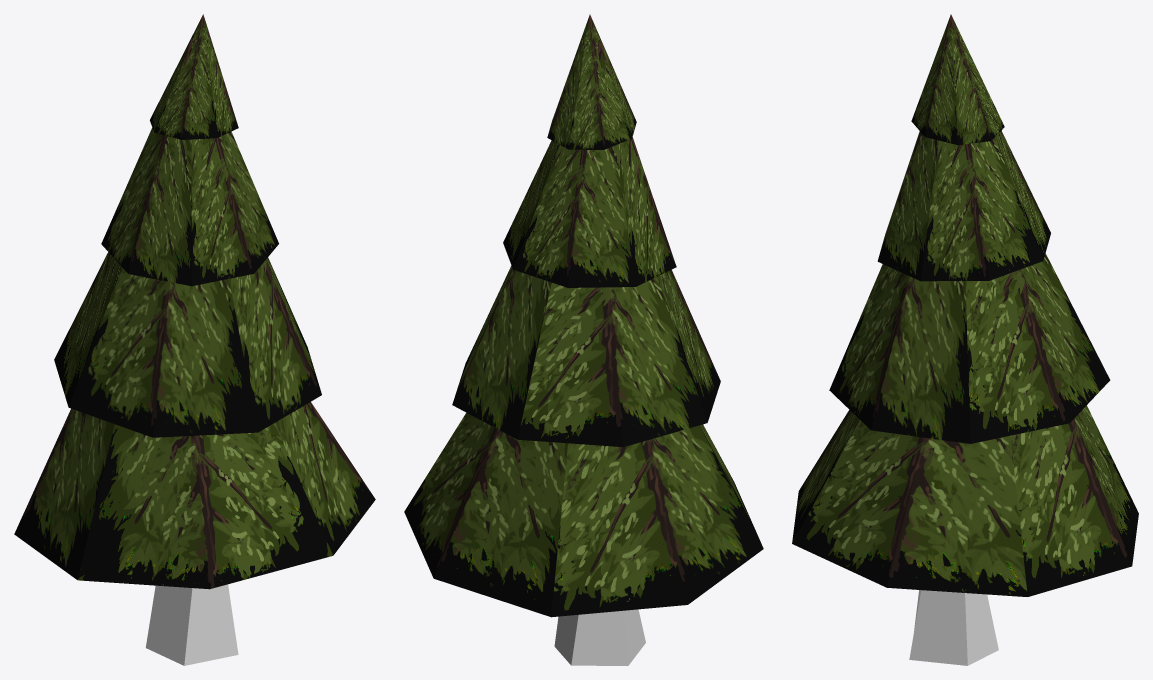
The model's file is TREE.glb.
3 renders of one model, left to right at view 1: azimuth 30°, elevation 25°; view 2: azimuth 150°, elevation 25°; view 3: azimuth 270°, elevation 25°, orthographic.
Visible parts, largest first — view 1: Cone.003, Trunk; view 2: Cone.003, Trunk; view 3: Cone.003, Trunk.
Part boxes in pixels (x1=…): Cone.003: x1=14, y1=14, x2=375, y2=589; Trunk: x1=145, y1=584, x2=238, y2=665; Cone.003: x1=404, y1=14, x2=763, y2=617; Trunk: x1=554, y1=609, x2=645, y2=665; Cone.003: x1=792, y1=14, x2=1138, y2=596; Trunk: x1=909, y1=590, x2=998, y2=665.
Bounding box in the file's own units: 12.32 × 25.01 × 12.32.
Materials: 1 (1 with a texture image).
